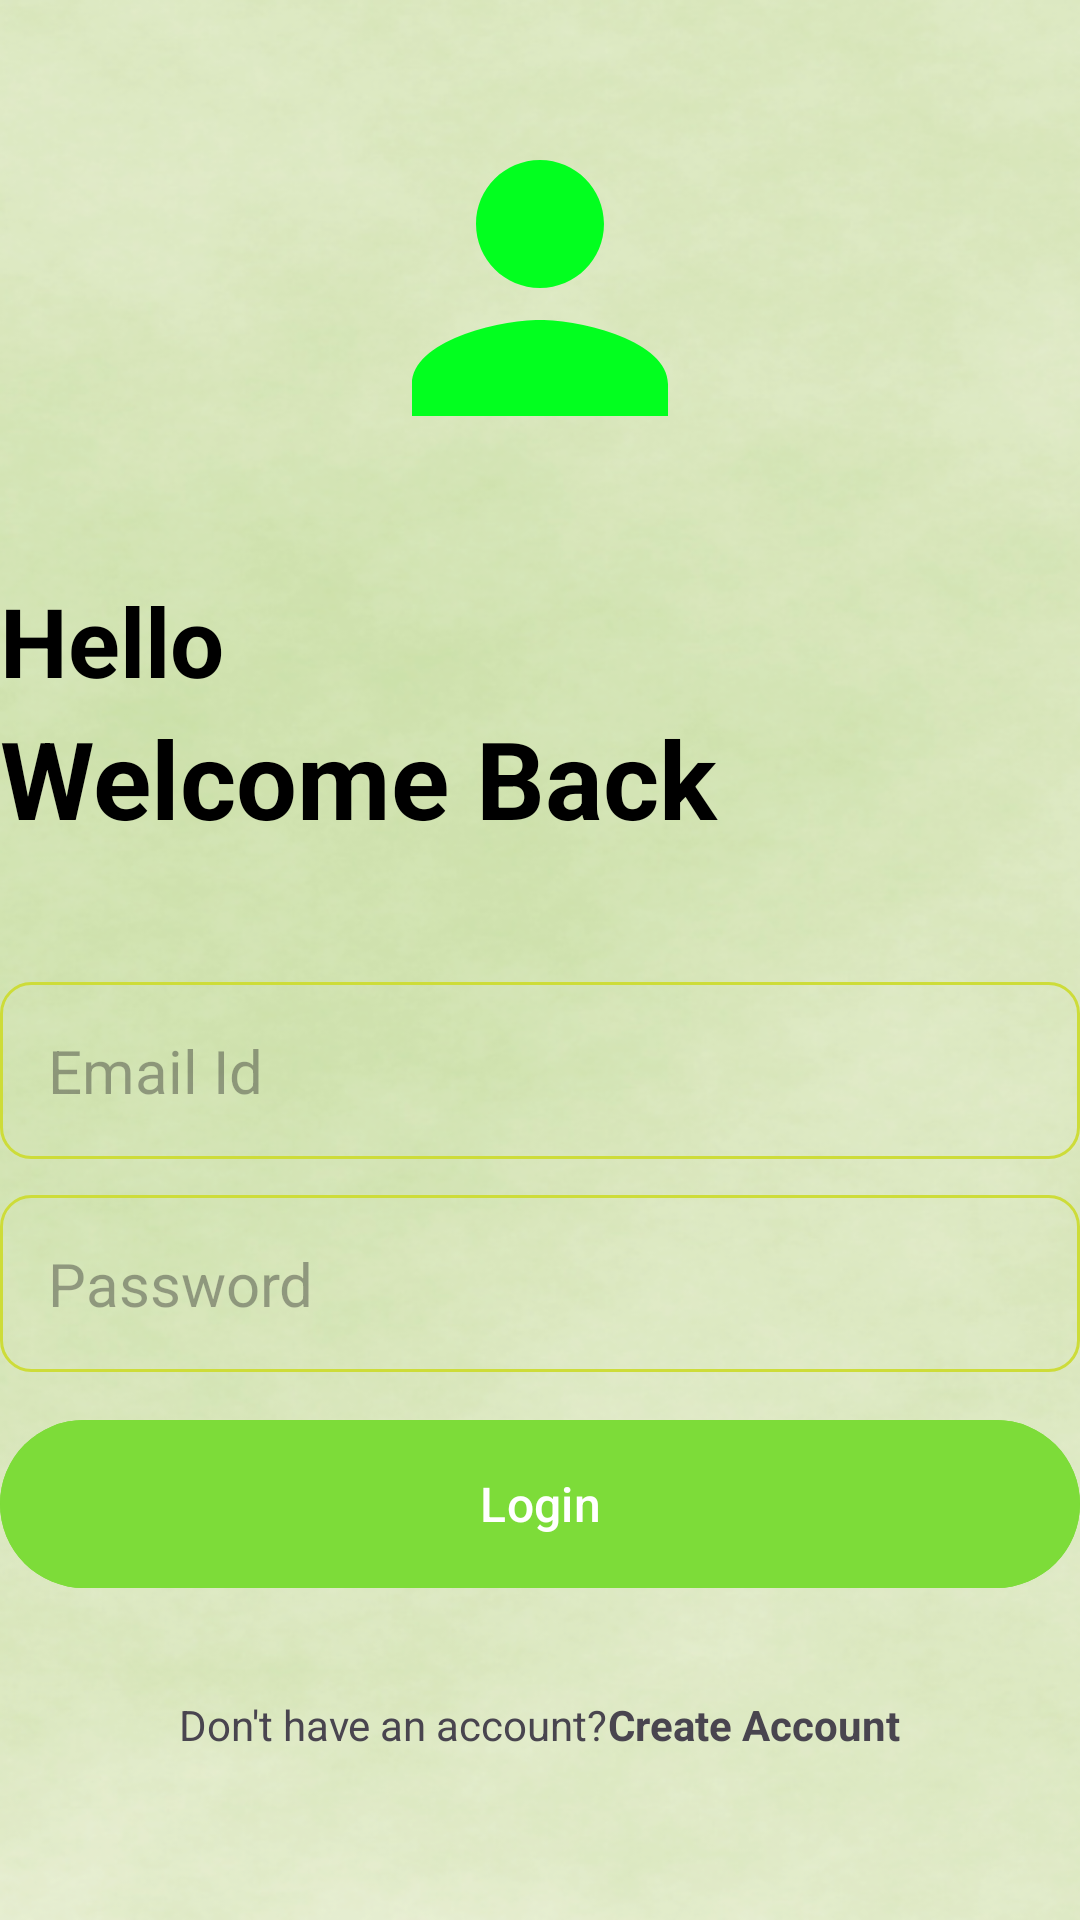

Screen size 1080 x 1920. Icon name, then its center in pixels as [x,y]:
person: [540,288]
